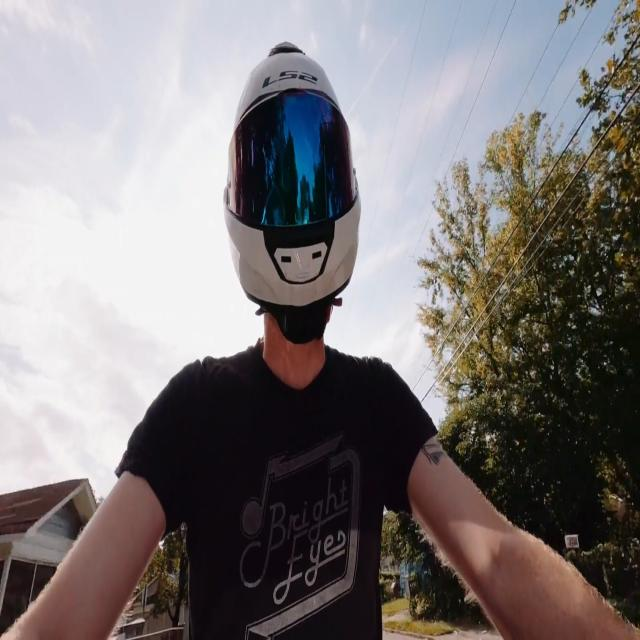Helmet_Wearer: (209, 40, 365, 396)
Person: (2, 47, 640, 640)
